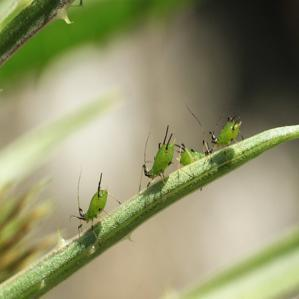Green peach aphid: (61, 176, 131, 242), (134, 129, 177, 209), (199, 104, 249, 159), (174, 131, 210, 176)
